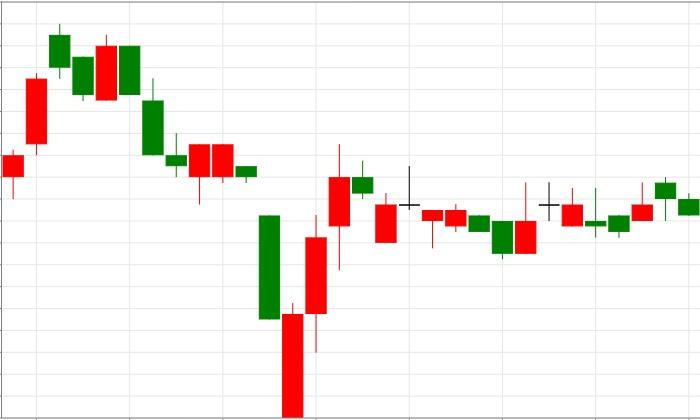three_white_soldiers_rise: (119, 45, 349, 418)
